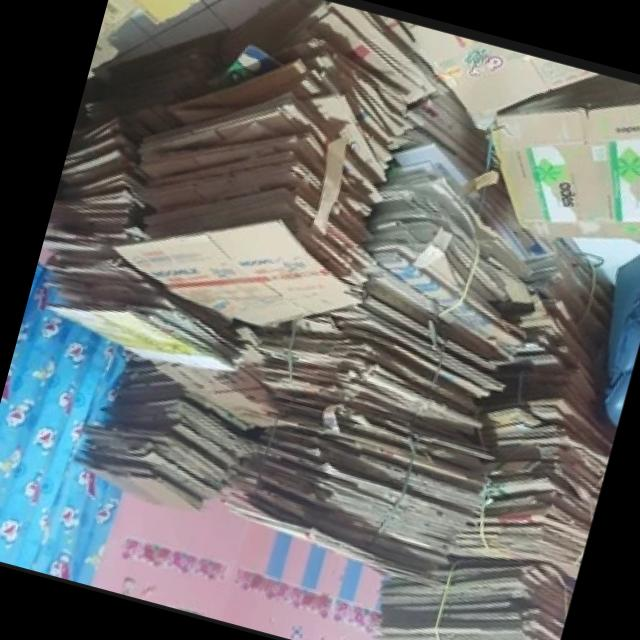Kardus: (0, 0, 640, 640), (112, 0, 431, 354), (368, 229, 640, 640), (228, 270, 521, 601), (465, 52, 640, 272), (81, 348, 259, 534)
